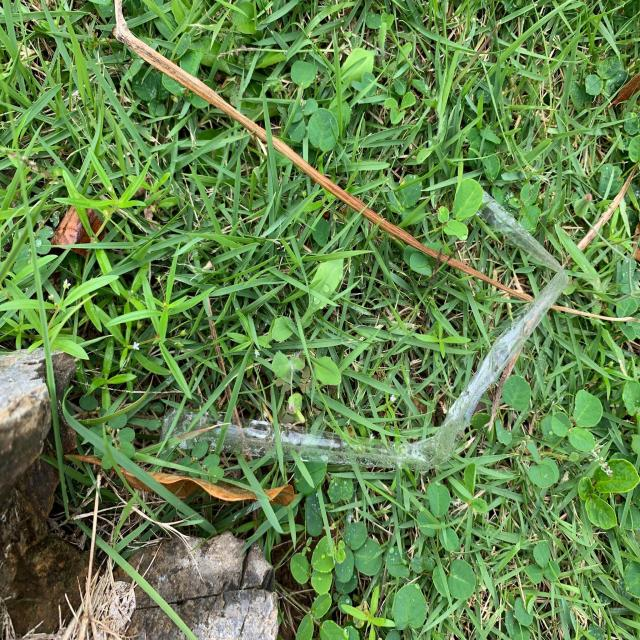litter: (157, 188, 574, 472)
